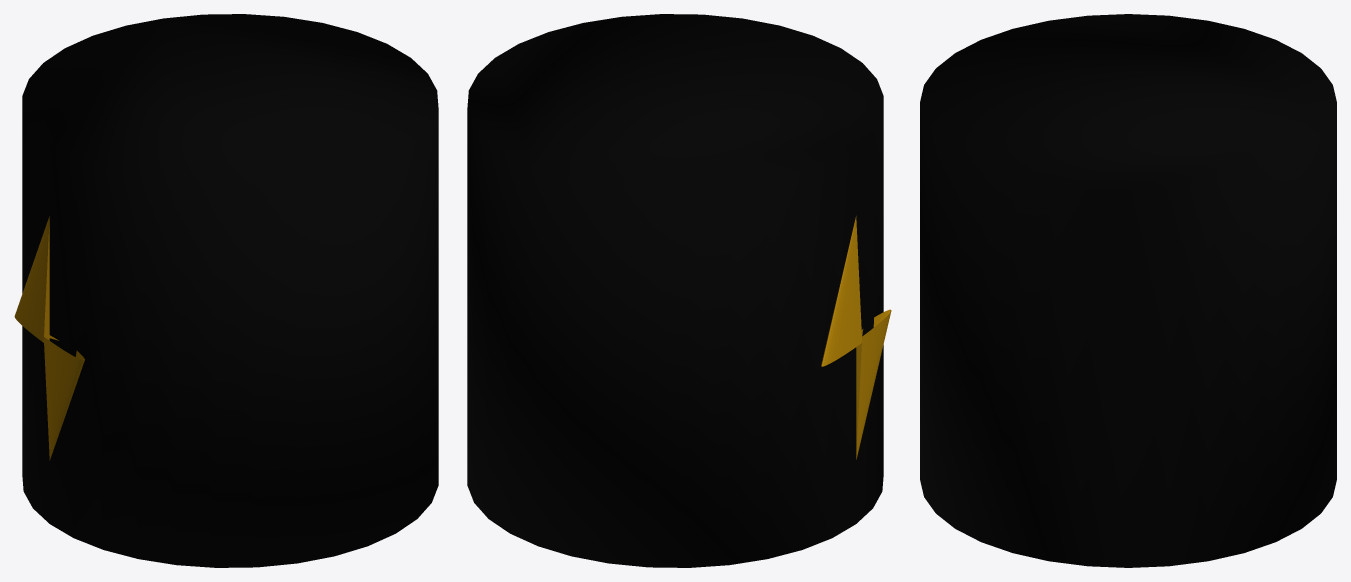
The model's file is thunder.fbx.
3 renders of one model, left to right at view 1: azimuth 30°, elevation 25°; view 2: azimuth 150°, elevation 25°; view 3: azimuth 270°, elevation 25°, orthographic.
Visible parts, largest first — view 1: 円錐.002; view 2: 円錐.002; view 3: 円錐.002.
Part boxes in pixels (box(x1,y1,x2,y2)): 円錐.002: box(14, 14, 438, 567); 円錐.002: box(467, 14, 891, 567); 円錐.002: box(920, 14, 1336, 567).
Size of the model in its own units: 610 by 600 by 600.
